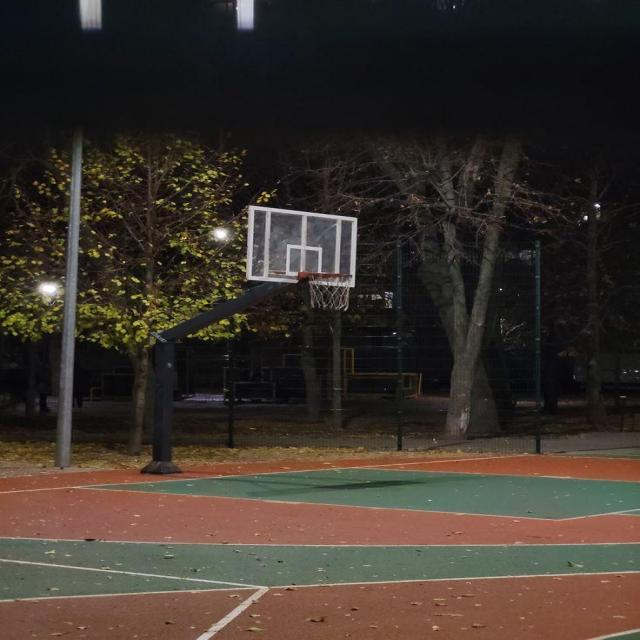hoop: (283, 258, 388, 320)
